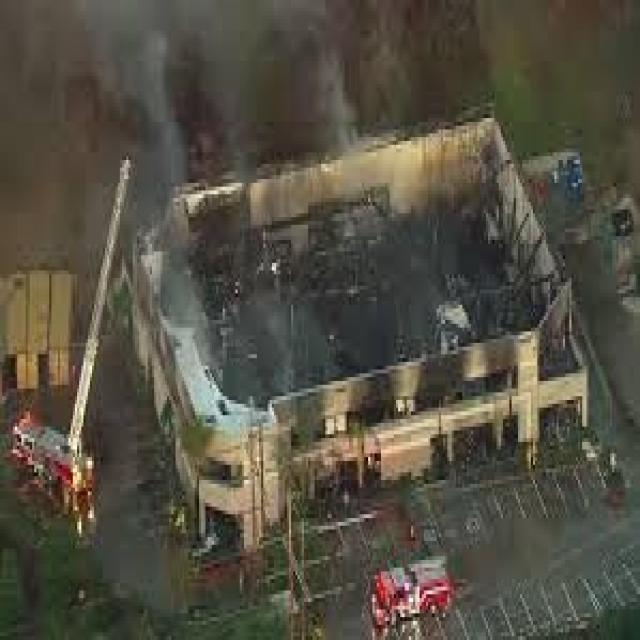Smoke: (461, 502, 548, 596), (136, 42, 188, 184), (163, 270, 210, 354), (322, 60, 364, 142)
